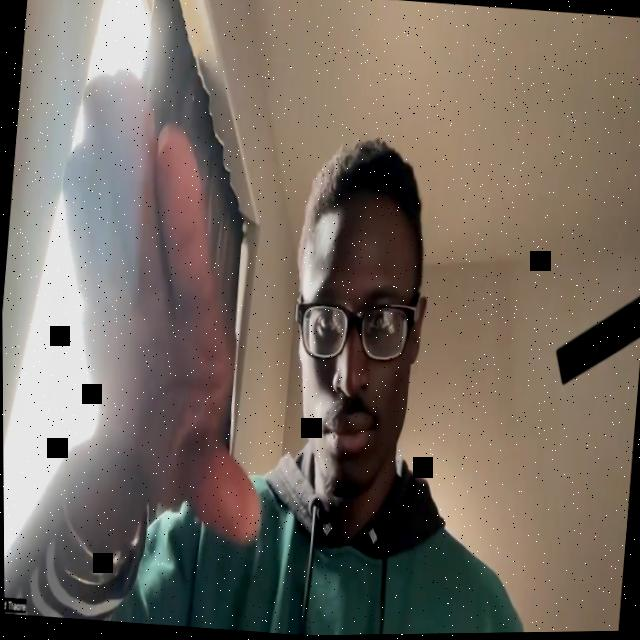Paper: (32, 62, 298, 551)
